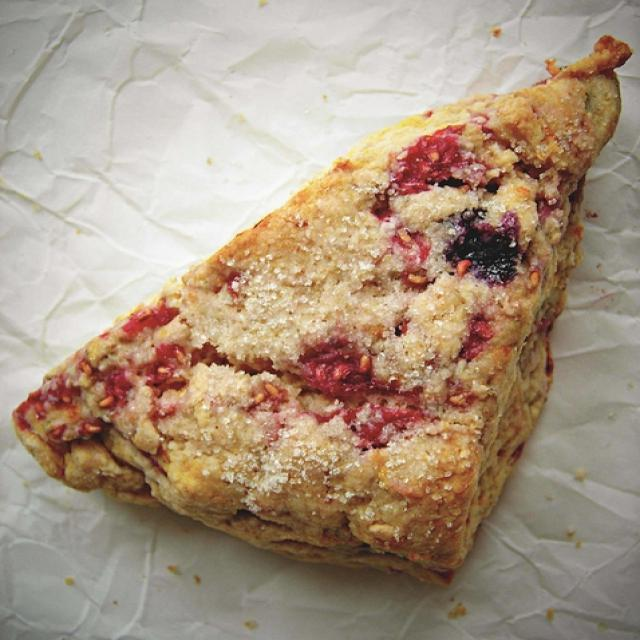面包点心: (11, 23, 621, 581)
